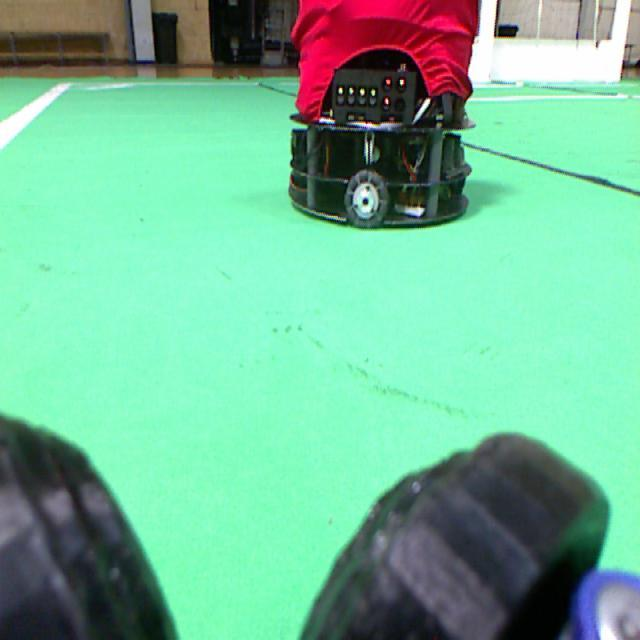goal: (476, 0, 498, 81), (609, 0, 630, 81)
